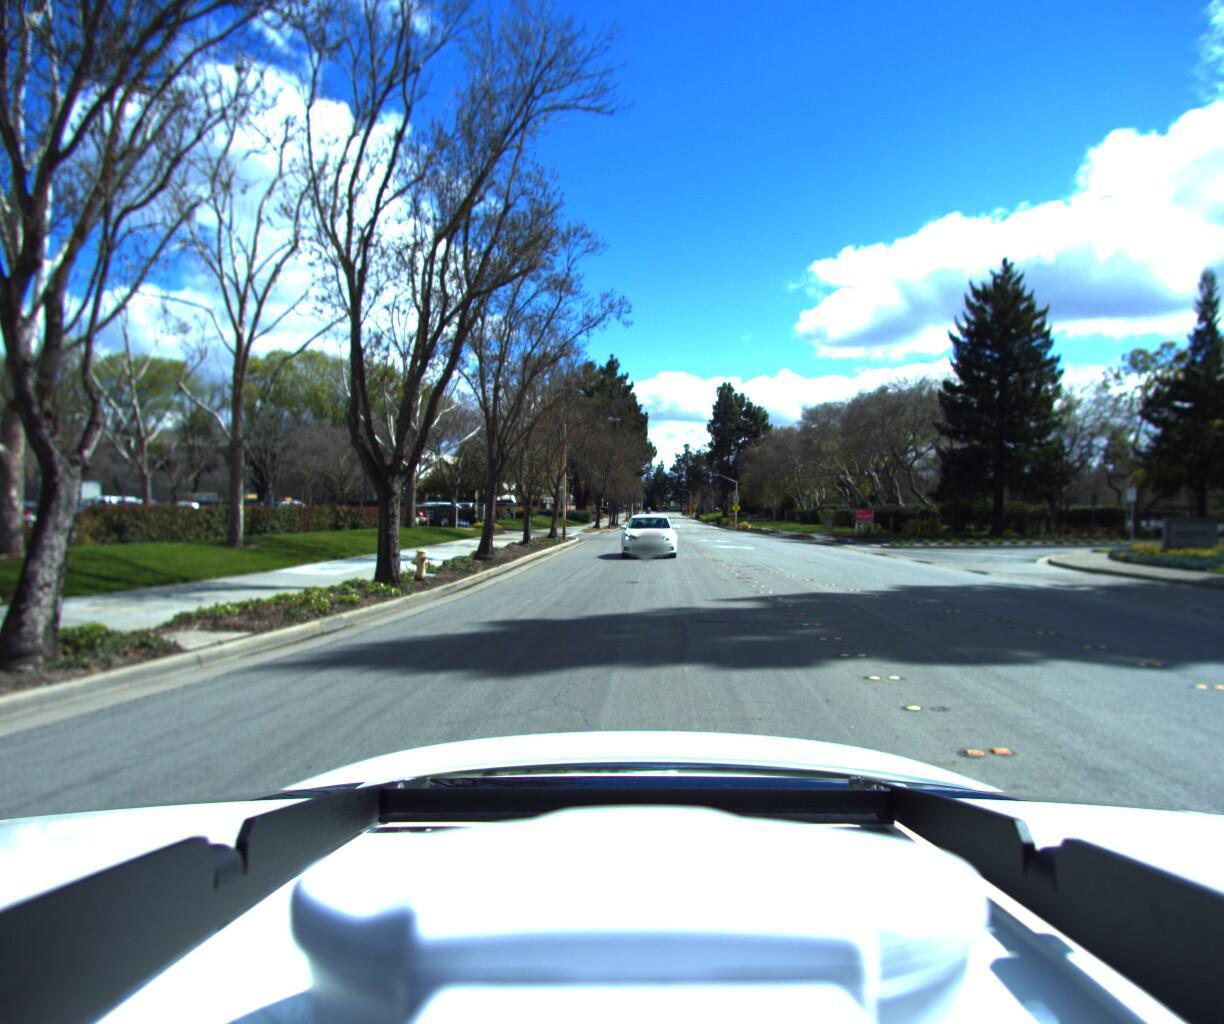car: (619, 519, 675, 568)
